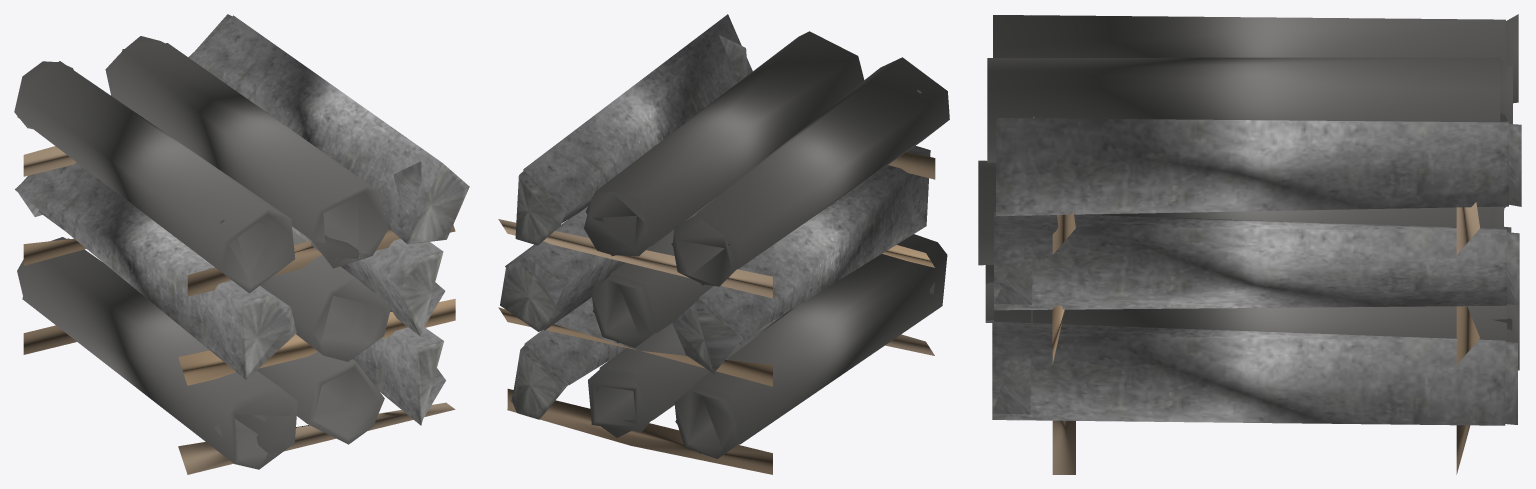
Rendered from pipe-stack.lod1.glb.
3 views of the same model, side by side, from view 1: azimuth 30°, elevation 25°; view 2: azimuth 150°, elevation 25°; view 3: azimuth 270°, elevation 25° (orthographic). The views are drawn at different scales.
Visible parts, largest first — view 1: pipe_stack_planks_plank3_0, pipe_stack_planks_pipe3_0; view 2: pipe_stack_planks_plank3_0, pipe_stack_planks_pipe3_0; view 3: pipe_stack_planks_pipe3_0, pipe_stack_planks_plank3_0.
Part boxes in pixels (<box>): pipe_stack_planks_plank3_0: <box>14,36,455,474</box>; pipe_stack_planks_pipe3_0: <box>15,14,469,425</box>; pipe_stack_planks_plank3_0: <box>498,31,949,474</box>; pipe_stack_planks_pipe3_0: <box>500,14,930,419</box>; pipe_stack_planks_pipe3_0: <box>992,116,1521,425</box>; pipe_stack_planks_plank3_0: <box>978,14,1519,474</box>.
Size of the model in its own units: 1.63 by 1.58 by 2.32.
2 materials, 1 textured.
